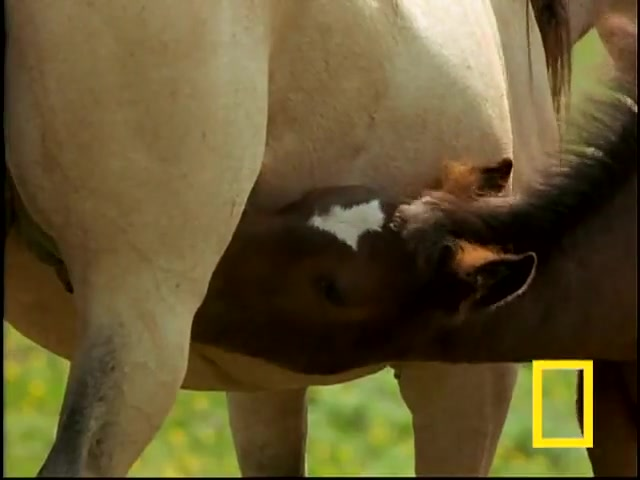horse: (191, 64, 640, 479)
